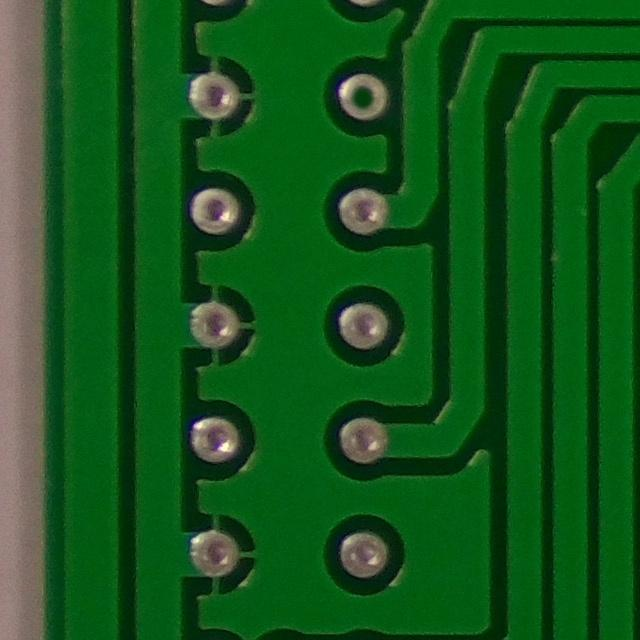missing_hole: (337, 62, 393, 128)
